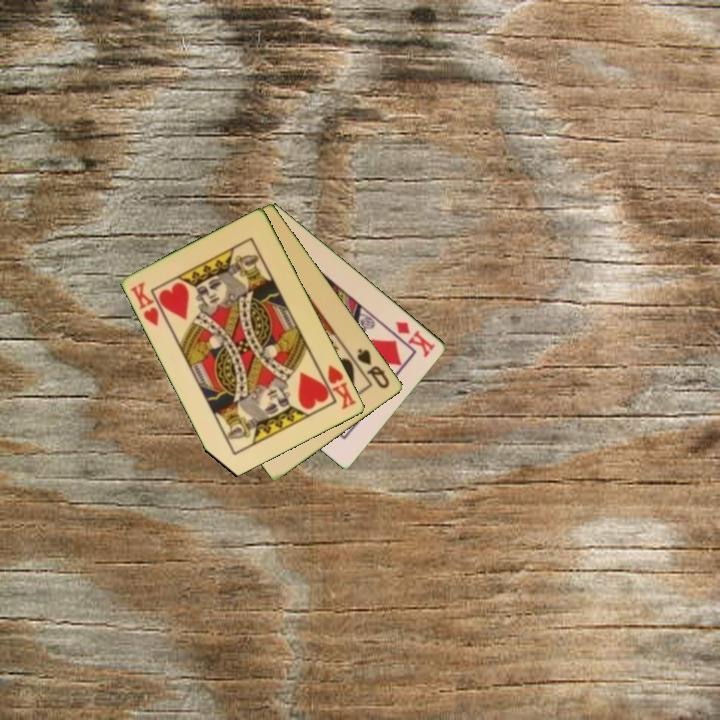Kd: (392, 317, 439, 360)
Kh: (316, 362, 360, 413), (127, 278, 162, 329)
Qs: (354, 345, 393, 392)
